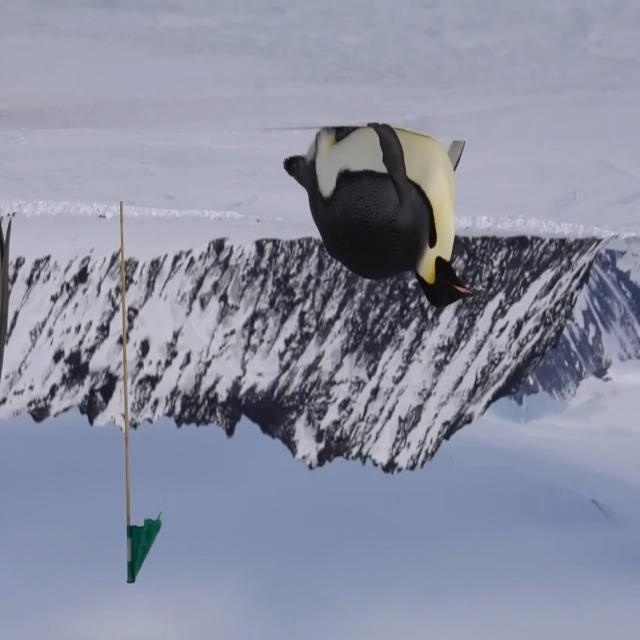penguin: (282, 123, 477, 308)
